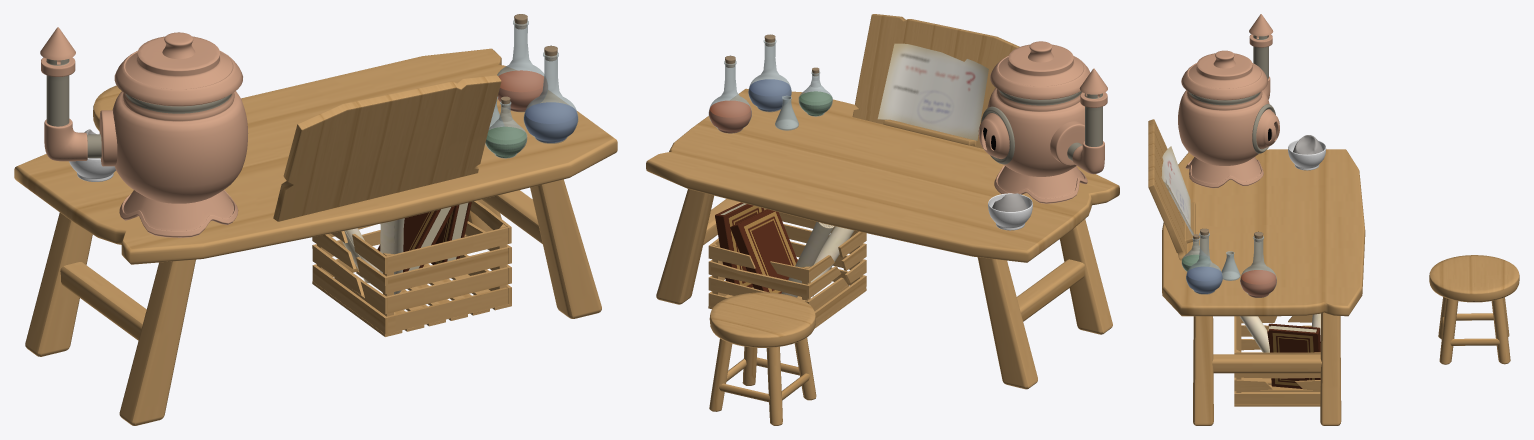
Rendered from Crafting Table.fbx.
The picture shows the model from 3 angles, left to right: view 1: azimuth 30°, elevation 25°; view 2: azimuth 150°, elevation 25°; view 3: azimuth 270°, elevation 25°; orthographic projection. The views are drawn at different scales.
Visible parts, largest first — view 1: Table, Furance, Backboard, Box, Blue_Bottle, Red_Bottle, Book1, Green_Bottle, Book, Scroll, Bowl_of_Powder, Stool; view 2: Table, Furance, Stool, Paper, Box, Backboard, Book1, Red_Bottle, Blue_Bottle, Book, Green_Bottle, Bowl_of_Powder (+4 smaller); view 3: Table, Furance, Stool, Box, Backboard, Book, Red_Bottle, Blue_Bottle, Paper, Bowl_of_Powder, Scroll, Green_Bottle (+2 smaller).
Part boxes in pixels (left/top/right/bottom): Table: left=14, top=48, right=617, bottom=425; Furance: left=40, top=27, right=248, bottom=237; Backboard: left=273, top=75, right=501, bottom=221; Box: left=312, top=200, right=511, bottom=336; Blue_Bottle: left=523, top=45, right=578, bottom=143; Red_Bottle: left=497, top=14, right=547, bottom=112; Book1: left=377, top=206, right=455, bottom=272; Green_Bottle: left=485, top=96, right=527, bottom=158; Book: left=431, top=202, right=471, bottom=264; Scroll: left=379, top=218, right=404, bottom=294; Bowl_of_Powder: left=69, top=158, right=115, bottom=181; Stool: left=93, top=85, right=121, bottom=131; Table: left=646, top=88, right=1119, bottom=389; Furance: left=978, top=41, right=1107, bottom=203; Stool: left=709, top=292, right=816, bottom=425; Paper: left=877, top=43, right=988, bottom=140; Box: left=708, top=208, right=866, bottom=328; Backboard: left=852, top=14, right=1019, bottom=148; Book1: left=730, top=209, right=797, bottom=293; Red_Bottle: left=708, top=55, right=751, bottom=133; Blue_Bottle: left=748, top=34, right=791, bottom=112; Book: left=715, top=202, right=764, bottom=287; Green_Bottle: left=798, top=67, right=832, bottom=116; Bowl_of_Powder: left=988, top=193, right=1032, bottom=230; Table: left=1162, top=149, right=1365, bottom=425; Furance: left=1178, top=14, right=1279, bottom=188; Stool: left=1429, top=255, right=1519, bottom=364; Box: left=1234, top=315, right=1320, bottom=406; Backboard: left=1148, top=119, right=1195, bottom=260; Book: left=1269, top=323, right=1320, bottom=388; Red_Bottle: left=1240, top=231, right=1276, bottom=297; Blue_Bottle: left=1186, top=228, right=1222, bottom=294; Paper: left=1161, top=146, right=1194, bottom=235; Bowl_of_Powder: left=1288, top=139, right=1326, bottom=170; Scroll: left=1240, top=316, right=1269, bottom=352; Green_Bottle: left=1181, top=234, right=1209, bottom=271.
Bounding box in the file's own units: 18.91 × 13.02 × 17.48.
